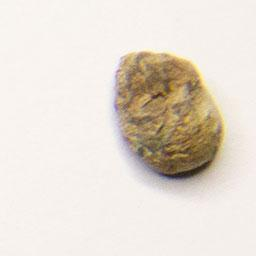defect: (109, 44, 229, 181)
